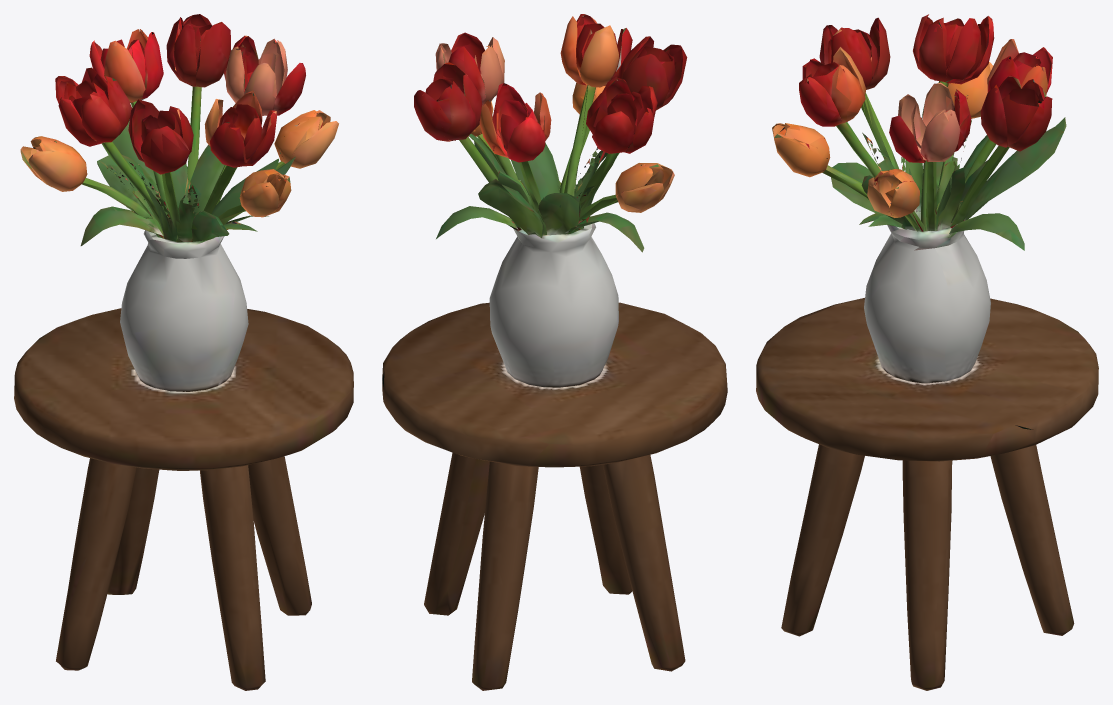
File: mesita.glb
3 views of the same model, side by side, from view 1: azimuth 30°, elevation 25°; view 2: azimuth 150°, elevation 25°; view 3: azimuth 270°, elevation 25° (orthographic).
Visible parts, largest first — view 1: objeto; view 2: objeto; view 3: objeto.
Part boxes in pixels (bbox=[...]): objeto: bbox=[14, 14, 353, 690]; objeto: bbox=[382, 14, 727, 690]; objeto: bbox=[756, 14, 1098, 690].
Bounding box in the file's own units: 0.5381 × 1 × 0.5375.
Materials: 1 (1 with a texture image).
